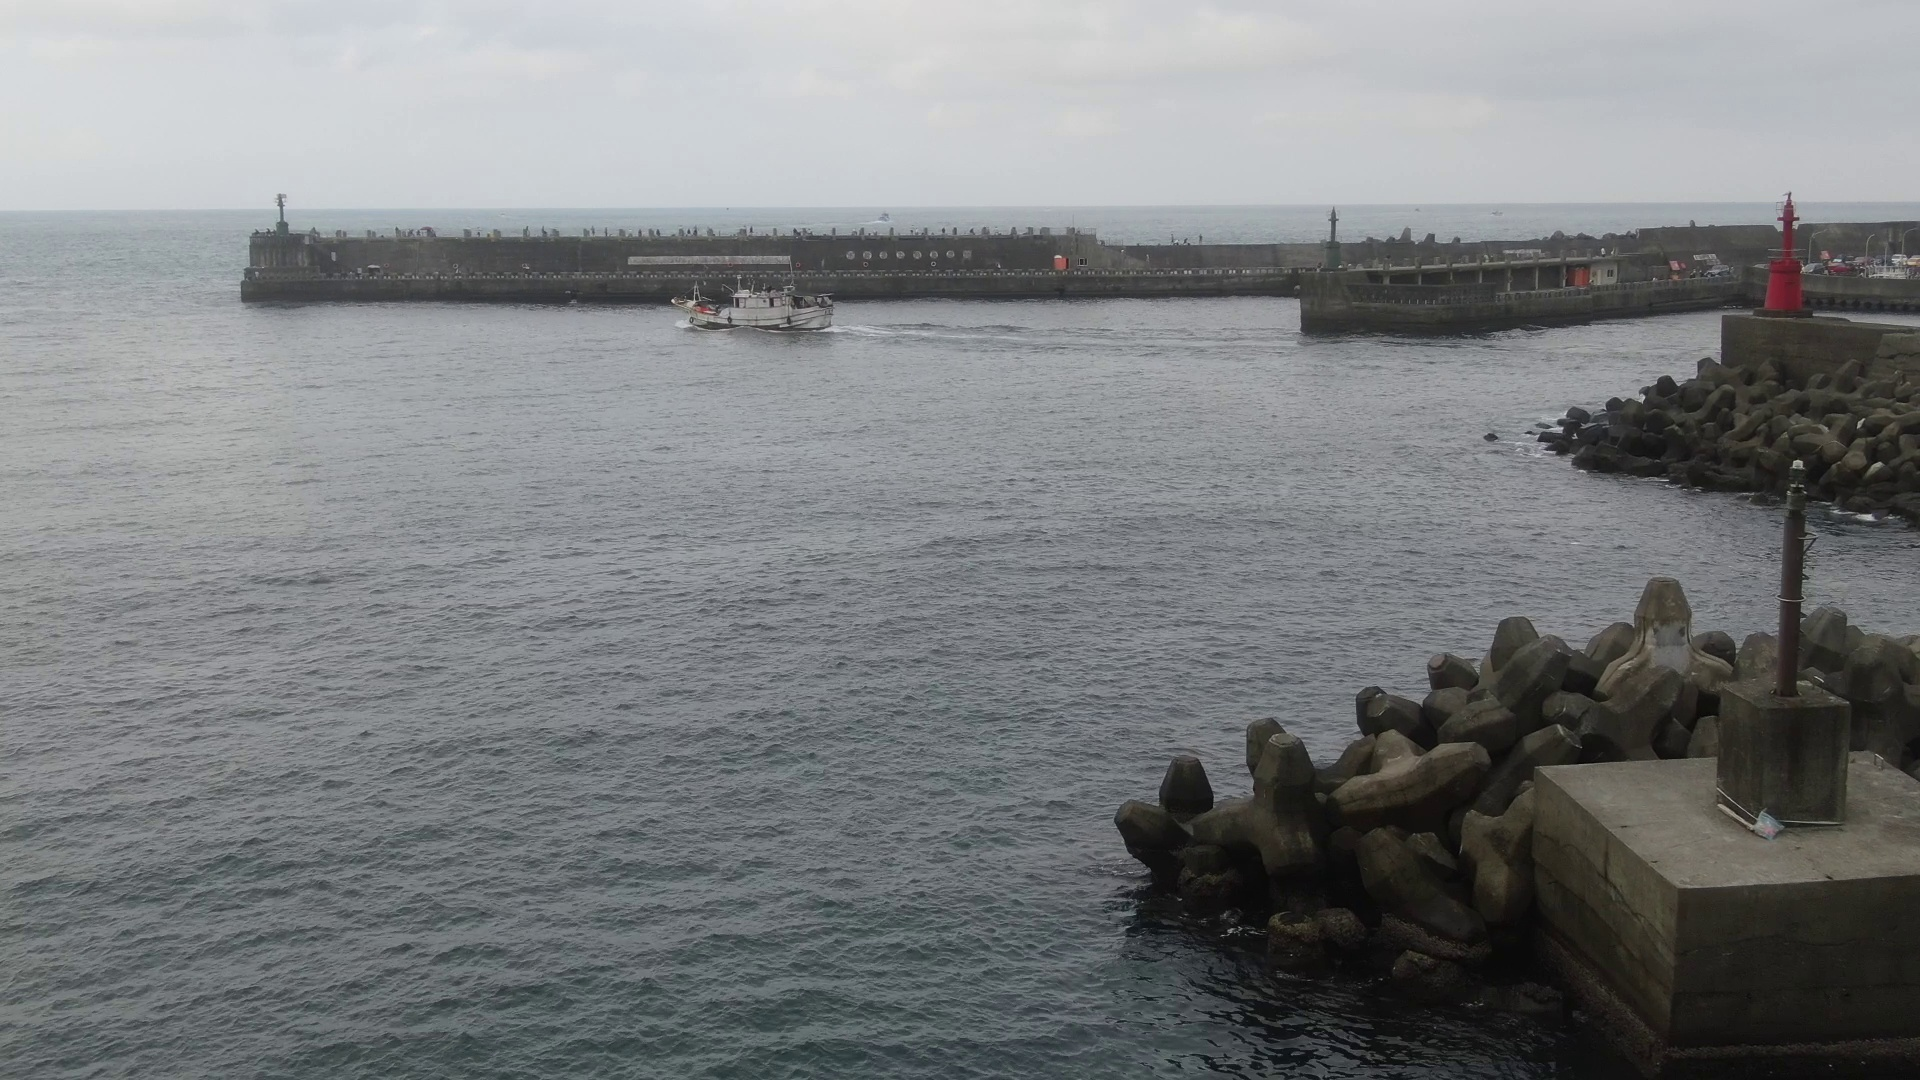garbage: (1712, 775, 1795, 845)
